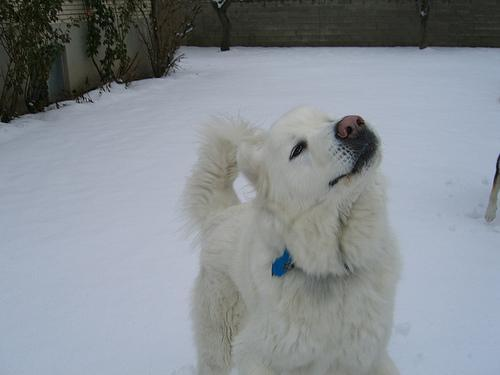Great_Pyrenees: (167, 100, 401, 374)
